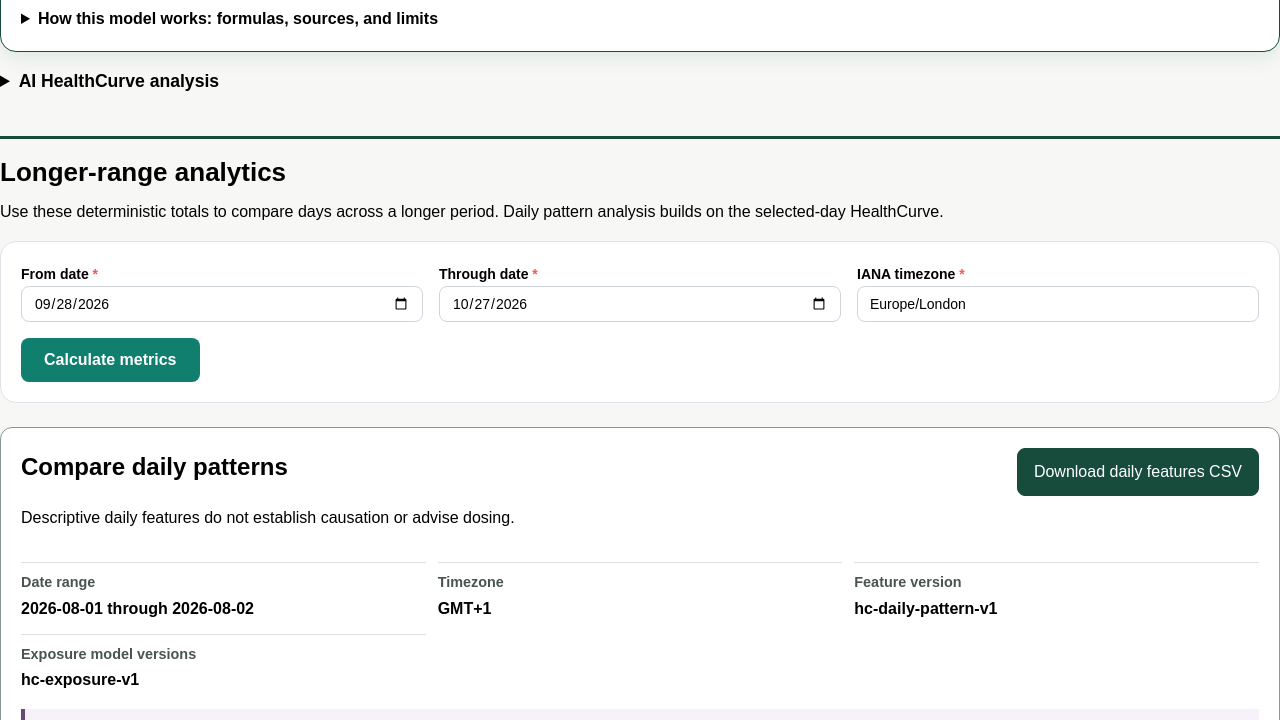
Scenario: Analytics page › shows an actionable error when a requested longer-range calculation fails
The image size is (1280, 720).
(page scrolled)
Expected: the heading "Compare daily patterns" is shown, top-left (21, 453), bottom-right (288, 480)
Click the button "Calculate metrics" at (110, 360), box top-left (21, 338), bottom-right (200, 382)
(page scrolled)
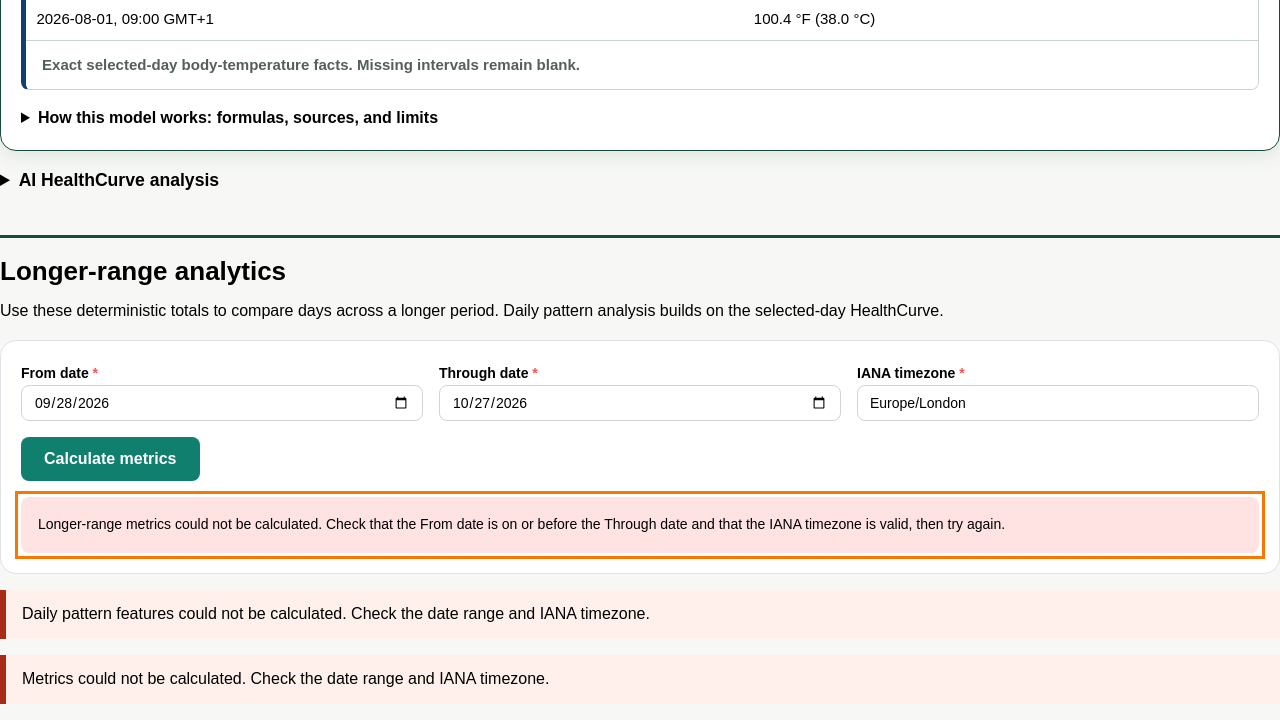
Expected: the text "Longer-range metrics could not be calculated" is shown, top-left (38, 516), bottom-right (1005, 532)
